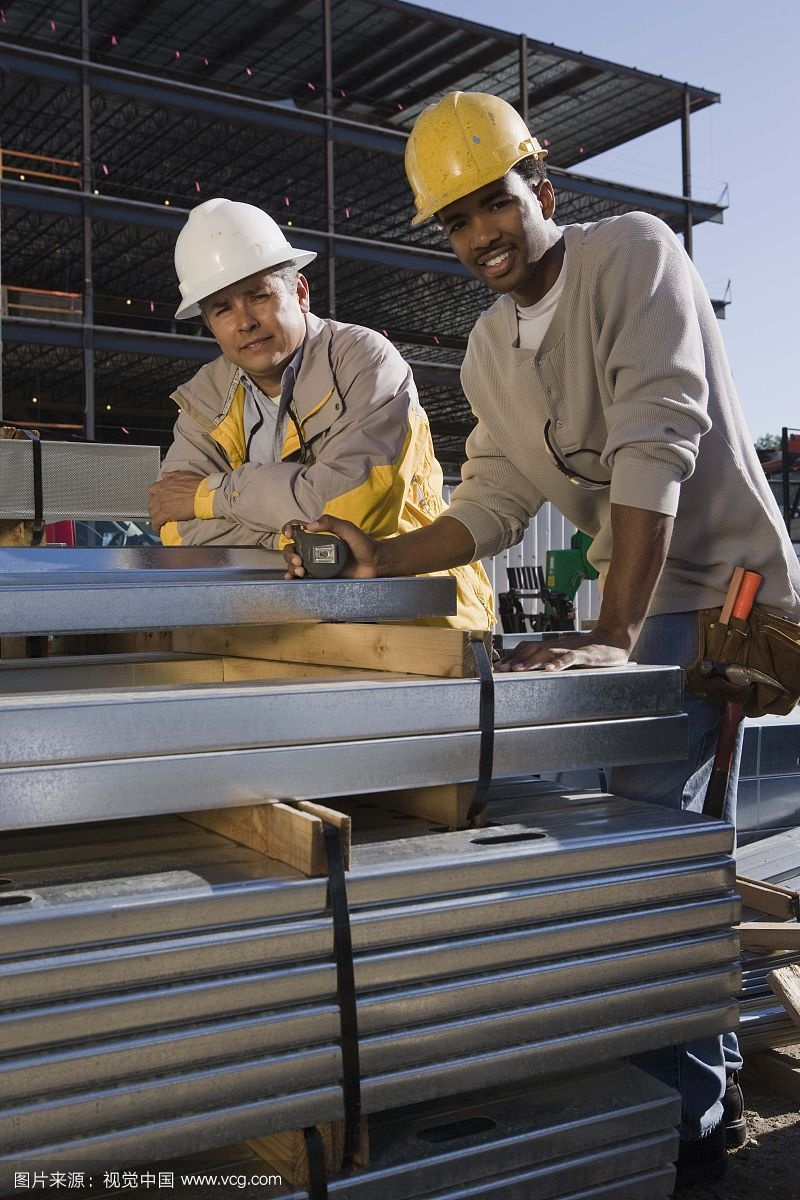white: (166, 190, 315, 376)
yellow: (394, 85, 572, 299)
